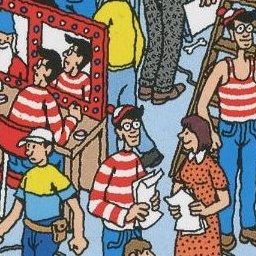waldo: (91, 101, 164, 226), (217, 9, 255, 57), (107, 104, 143, 154)
